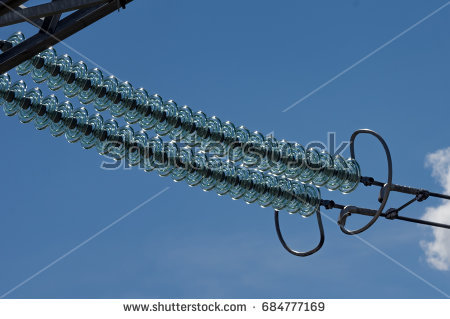isolator: (1, 31, 360, 218)
